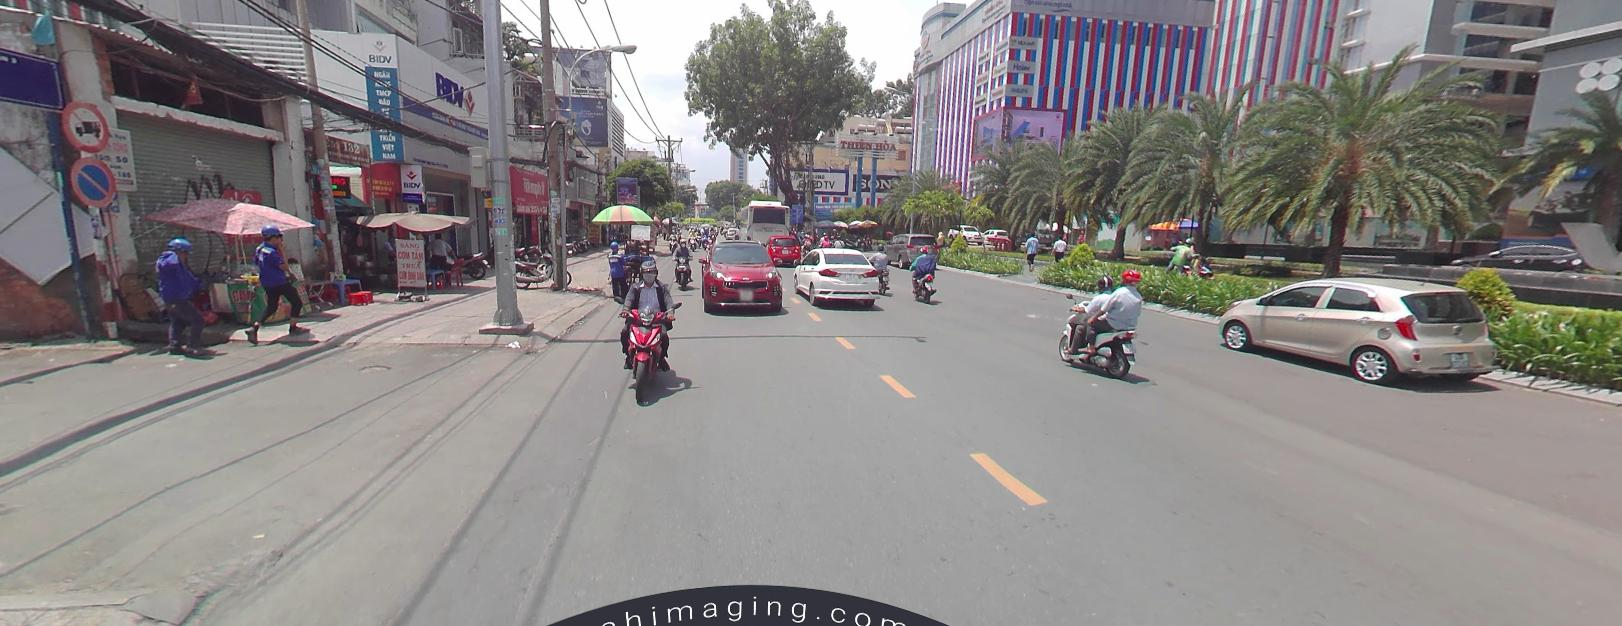Cam con lai: (60, 96, 109, 151)
Cam dung va do: (70, 154, 117, 206)
